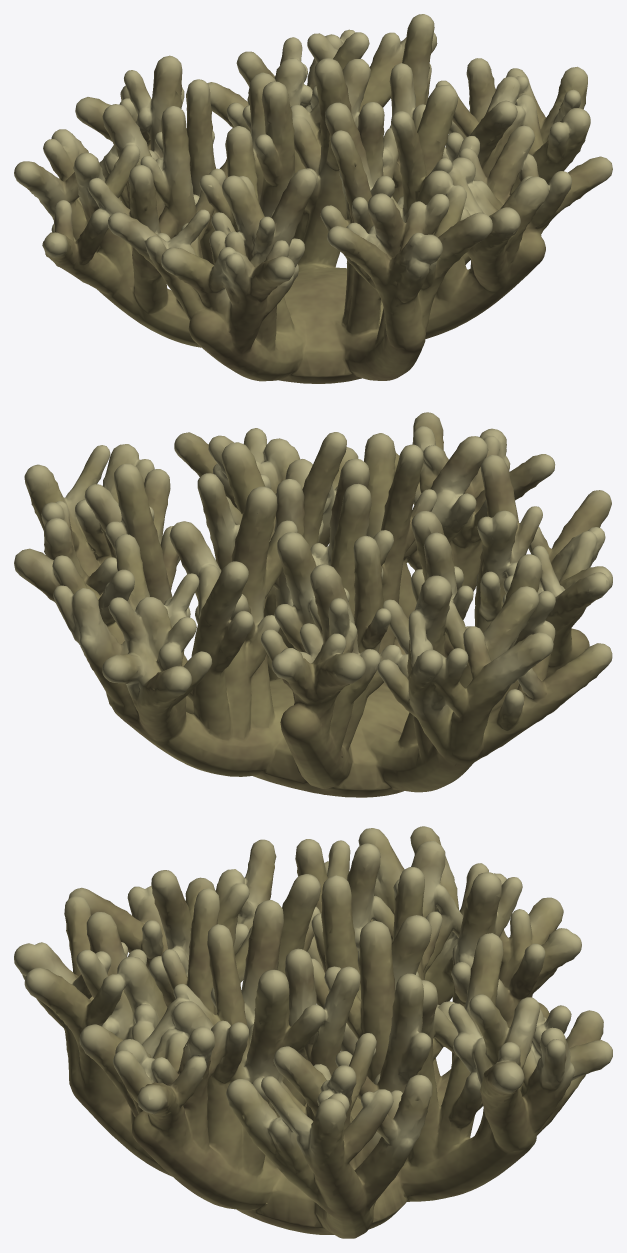
Rendered from branching_v4_cushion_lod0.glb.
The picture shows the model from 3 angles, top to bottom: view 1: azimuth 30°, elevation 25°; view 2: azimuth 150°, elevation 25°; view 3: azimuth 270°, elevation 25°; orthographic projection. The views are drawn at different scales.
Parts seen in each view (by area): view 1: branching_v4_cushion_LOD0; view 2: branching_v4_cushion_LOD0; view 3: branching_v4_cushion_LOD0.
Part boxes in pixels (x1,y1,x2,y2): branching_v4_cushion_LOD0: (14, 14, 612, 383); branching_v4_cushion_LOD0: (14, 412, 612, 797); branching_v4_cushion_LOD0: (14, 826, 612, 1238).
Size of the model in its own units: 0.6494 by 0.3045 by 0.5642.
1 material, 1 textured.
